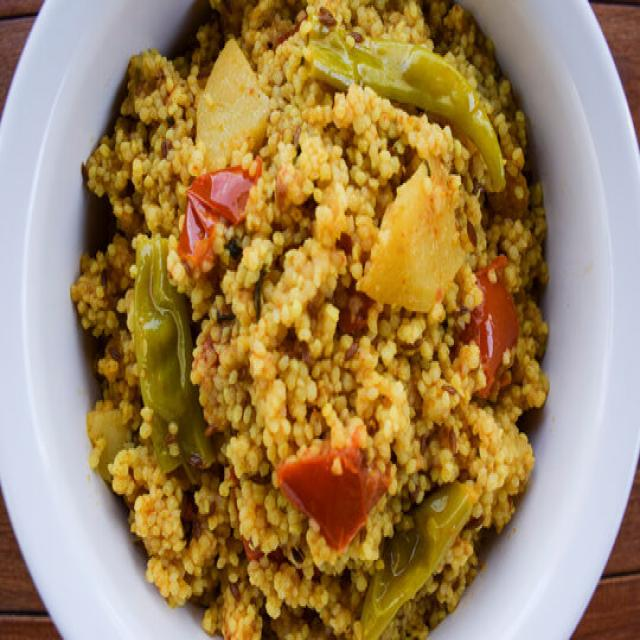UPMA: (77, 0, 555, 638)
